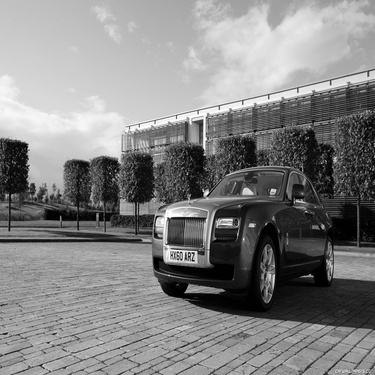car: (124, 146, 347, 305)
